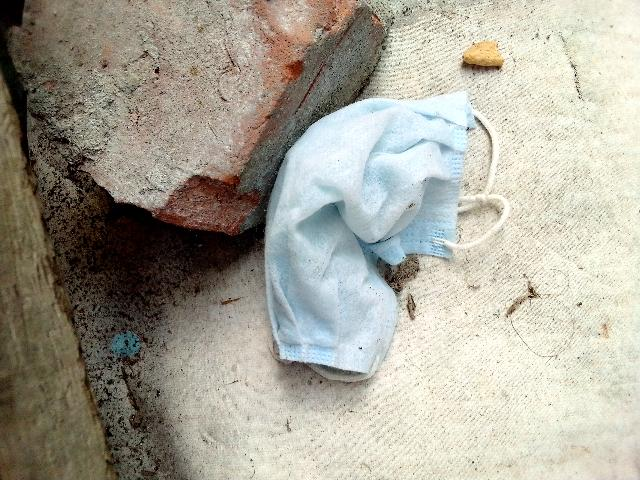mask: (268, 99, 465, 351)
